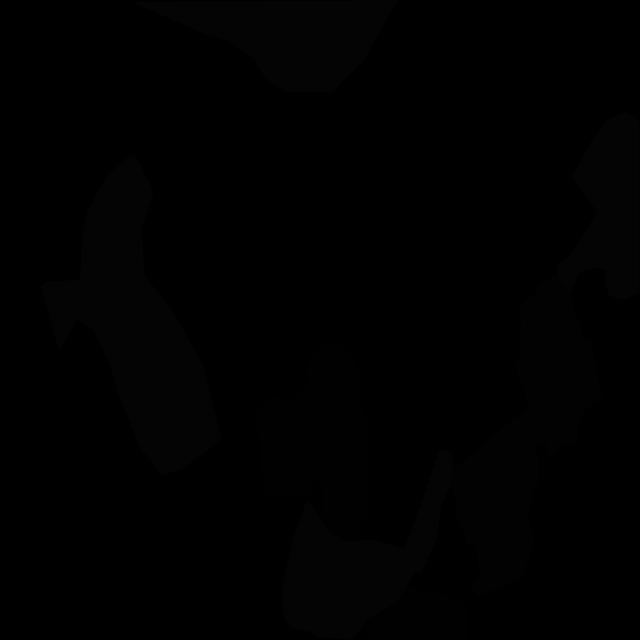cardboard: (451, 272, 602, 596)
rigid_plastic: (306, 342, 371, 541), (256, 388, 346, 500), (368, 586, 468, 639)
soft_plastic: (41, 155, 222, 475), (282, 449, 453, 640), (132, 0, 398, 92), (558, 112, 640, 299)
